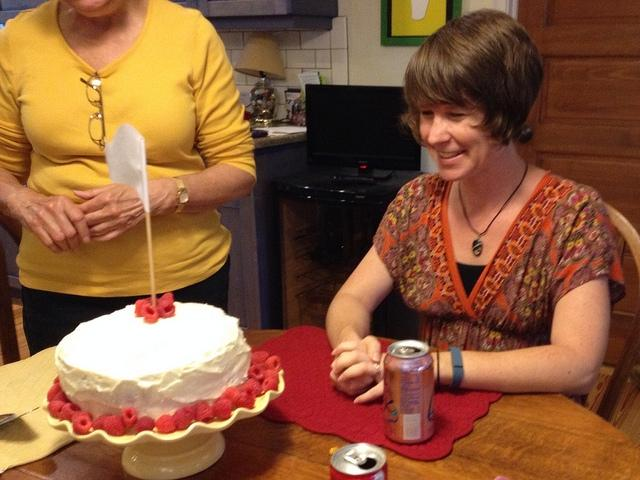raspberry: (73, 410, 94, 436), (212, 398, 233, 420), (103, 416, 125, 436), (194, 402, 216, 422), (59, 403, 82, 422), (222, 386, 241, 408), (156, 298, 176, 318), (172, 408, 190, 430), (90, 414, 112, 432), (140, 302, 159, 322), (134, 416, 155, 433), (120, 407, 138, 426), (242, 378, 262, 394), (46, 382, 62, 402), (250, 349, 268, 366), (248, 364, 265, 380), (265, 356, 282, 372), (264, 370, 280, 384), (238, 386, 256, 398), (52, 390, 70, 402), (184, 405, 196, 421)
